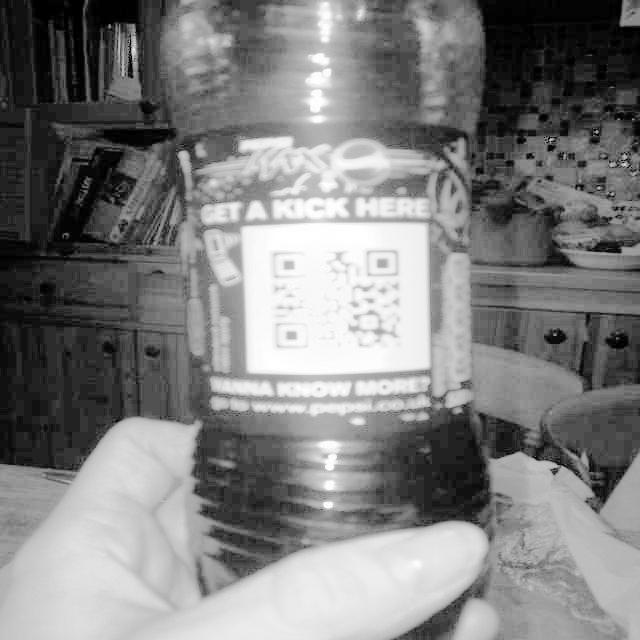qr_code: (271, 249, 402, 349)
